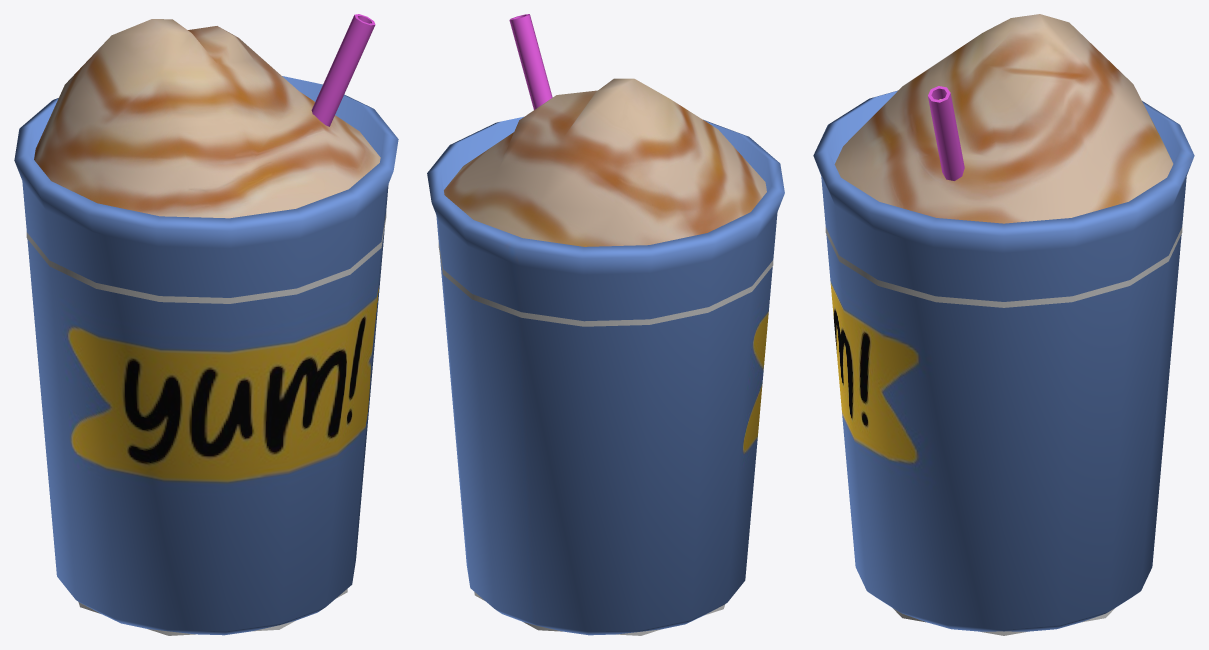
Rendered from 5coffee.fbx.
3 renders of one model, left to right at view 1: azimuth 30°, elevation 25°; view 2: azimuth 150°, elevation 25°; view 3: azimuth 270°, elevation 25°, orthographic. The views are drawn at different scales.
Parts seen in each view (by area): view 1: Coffee_4, Coffee_5, Coffee_3_Cap; view 2: Coffee_4, Coffee_3_Cap, Coffee_5; view 3: Coffee_4, Coffee_3_Cap, Coffee_5.
Part boxes in pixels (box(x1,y1,x2,y2)): Coffee_4: box(14, 19, 398, 635); Coffee_5: box(311, 14, 375, 126); Coffee_3_Cap: box(26, 212, 386, 303); Coffee_4: box(427, 78, 784, 635); Coffee_3_Cap: box(438, 242, 773, 326); Coffee_5: box(509, 14, 552, 109); Coffee_4: box(813, 14, 1194, 631); Coffee_3_Cap: box(825, 227, 1182, 307); Coffee_5: box(928, 86, 964, 180).
Bounding box in the file's own units: 0.2348 × 0.3703 × 0.2348.
